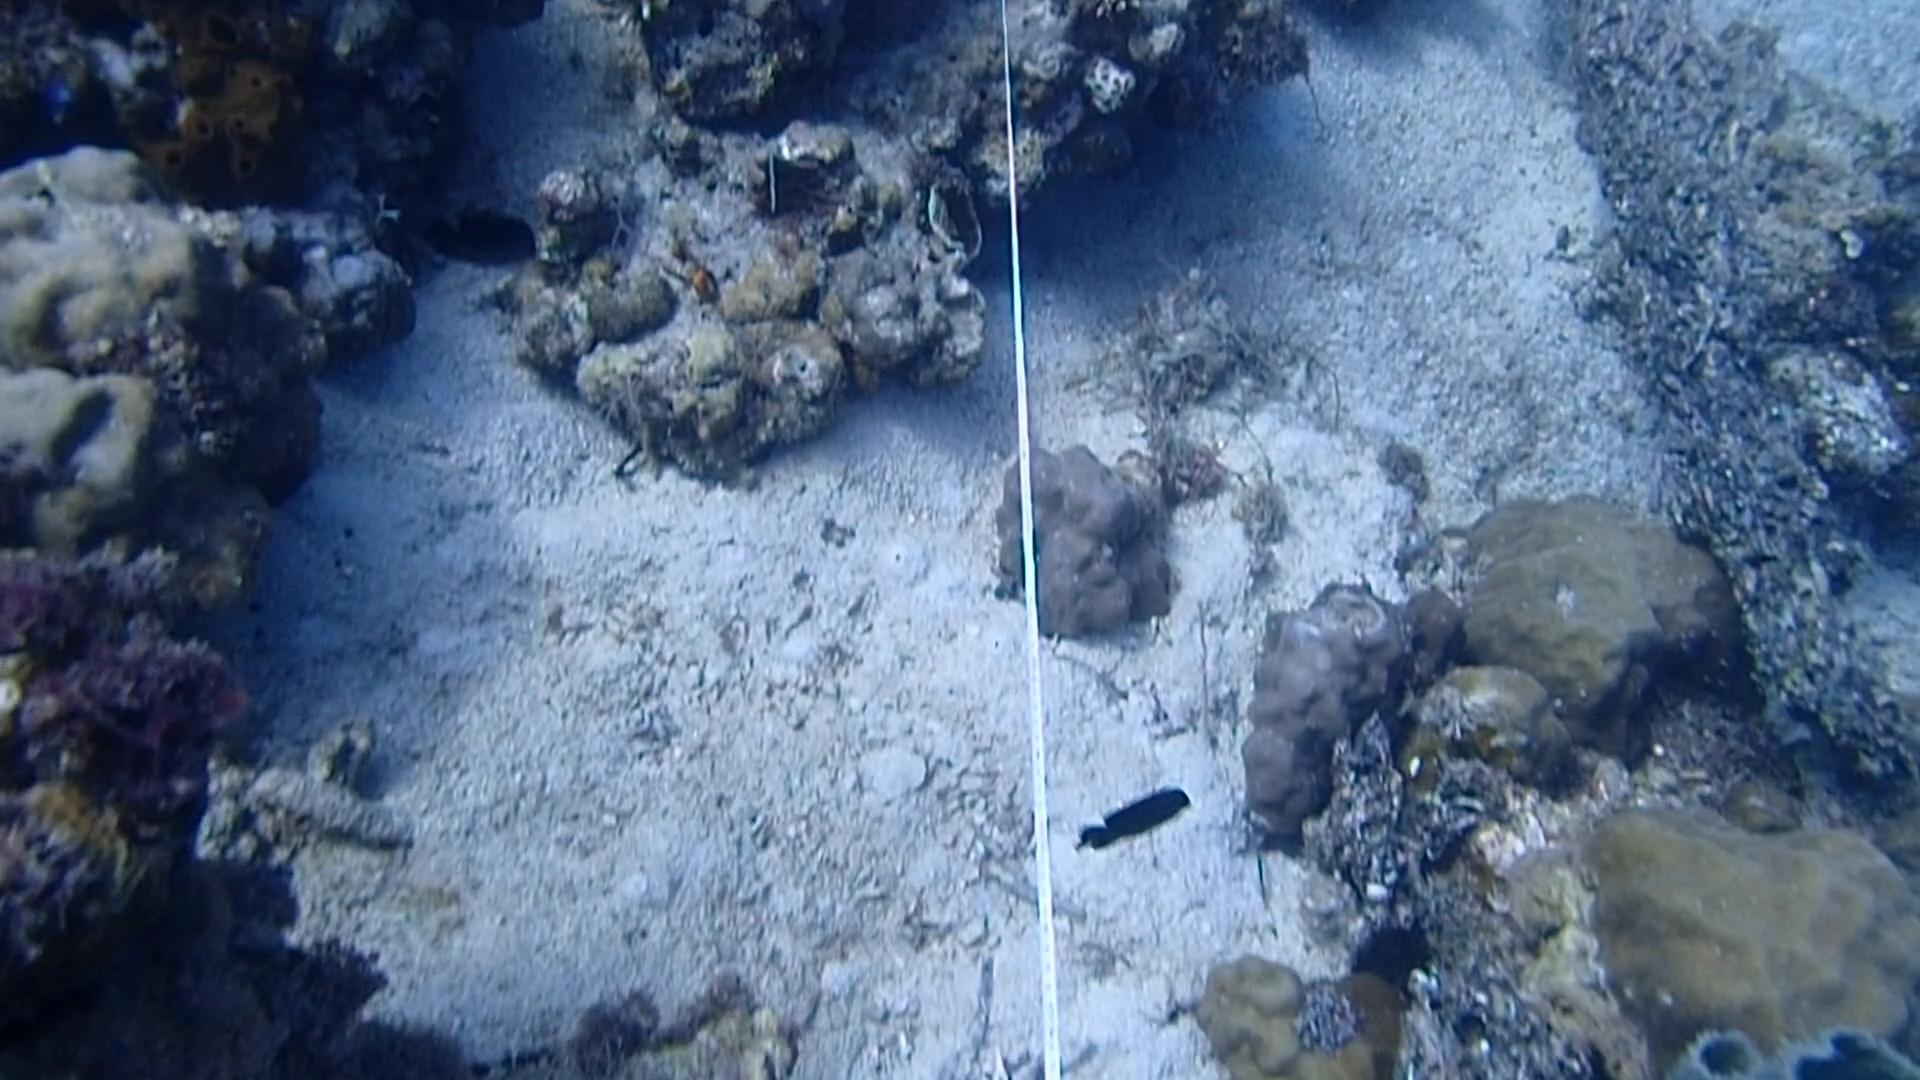Big Dark Blue Fish: (384, 187, 543, 270)
Dark Fish: (1067, 771, 1200, 862)
